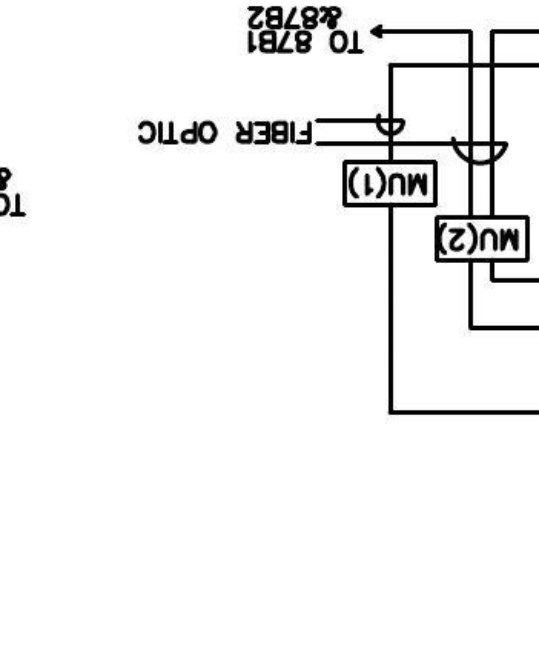MU: (434, 214, 530, 264), (342, 159, 438, 208)
